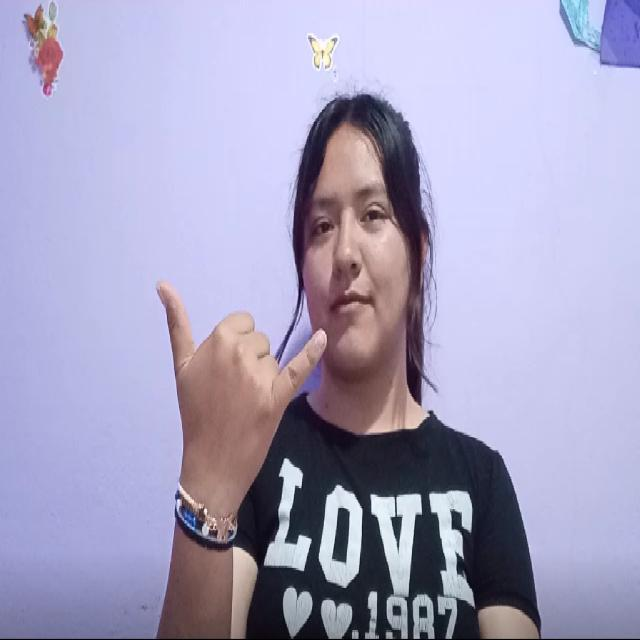Y: (138, 236, 350, 488)
